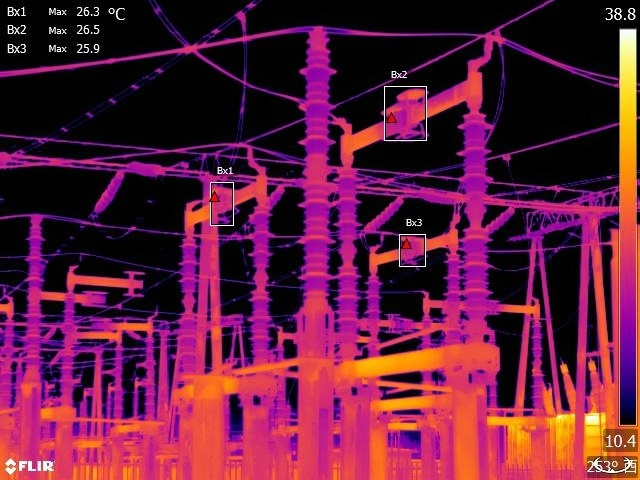clamp: (232, 4, 256, 32), (489, 20, 508, 51)
insulator: (89, 165, 128, 219), (362, 194, 409, 238), (249, 186, 287, 228), (484, 204, 518, 236)
post insulator: (292, 25, 336, 357), (457, 108, 495, 346), (333, 157, 363, 353), (20, 210, 48, 390), (174, 228, 199, 381), (249, 203, 272, 364), (55, 286, 83, 407), (362, 273, 387, 353), (443, 248, 461, 346), (528, 319, 545, 414), (418, 311, 434, 387)
switch: (332, 57, 506, 164), (179, 162, 271, 233), (366, 223, 462, 280), (419, 289, 541, 319), (64, 257, 151, 298)
